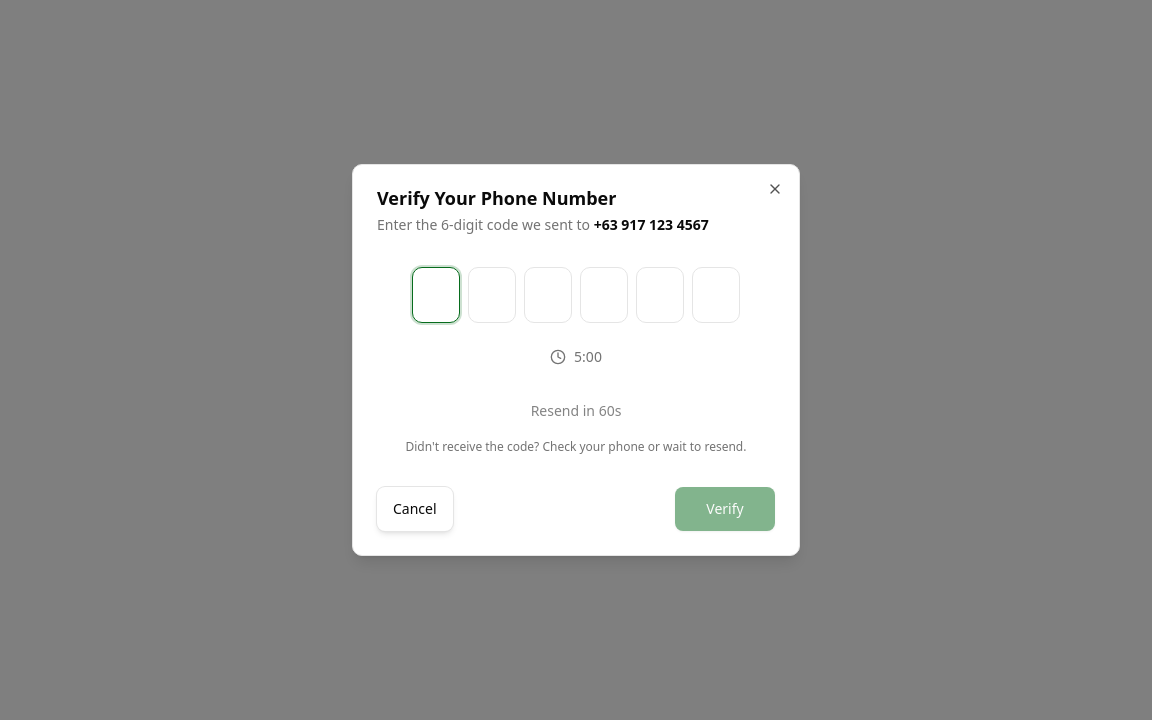
Scenario: OTPVerificationModal › Input Flow › should handle only last character when multiple digits pasted in single input
The image size is (1152, 720).
Simulate typing "123" in first input (only "3" should remain)
In the field named "Digit 1 of 6": (436, 295) x1=412 y1=267 x2=460 y2=323, type "123"
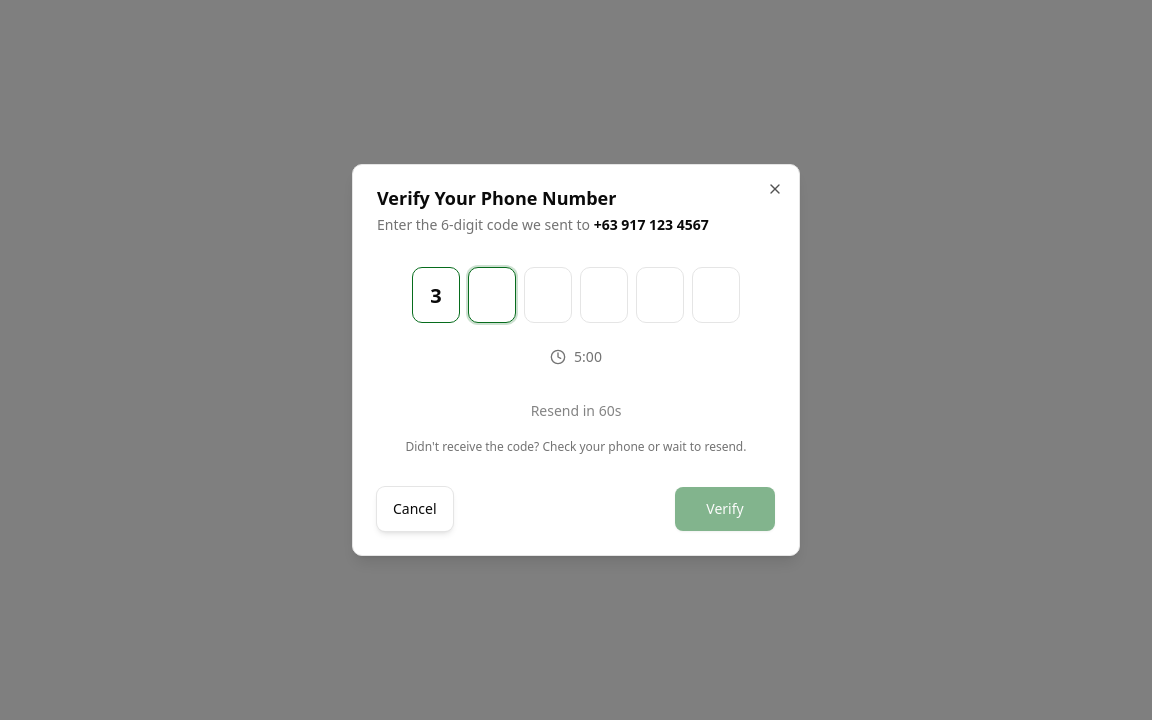
expect the field named "Digit 1 of 6" holds "3": met, box x1=412 y1=267 x2=460 y2=323
